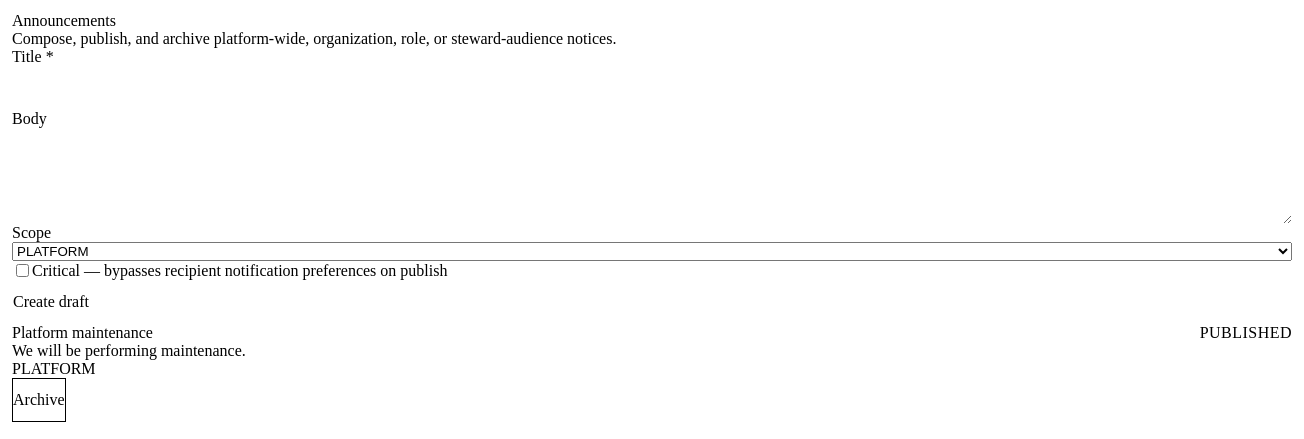
AnnouncementsComposerPanel › archives an announcement
The width and height of the screenshot is (1304, 439).
expect the text "Platform maintenance" is shown: met, box x1=12 y1=324 x2=153 y2=342
Click the button "Archive".
click(39, 400)  # box x1=12 y1=378 x2=66 y2=422
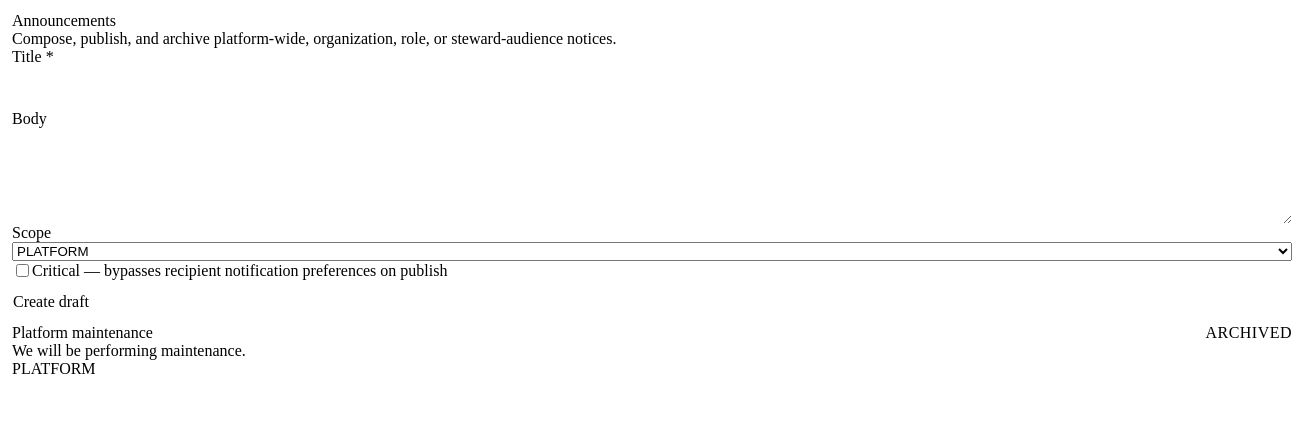
expect the text "ARCHIVED" is shown: met, box x1=1206 y1=324 x2=1292 y2=342
